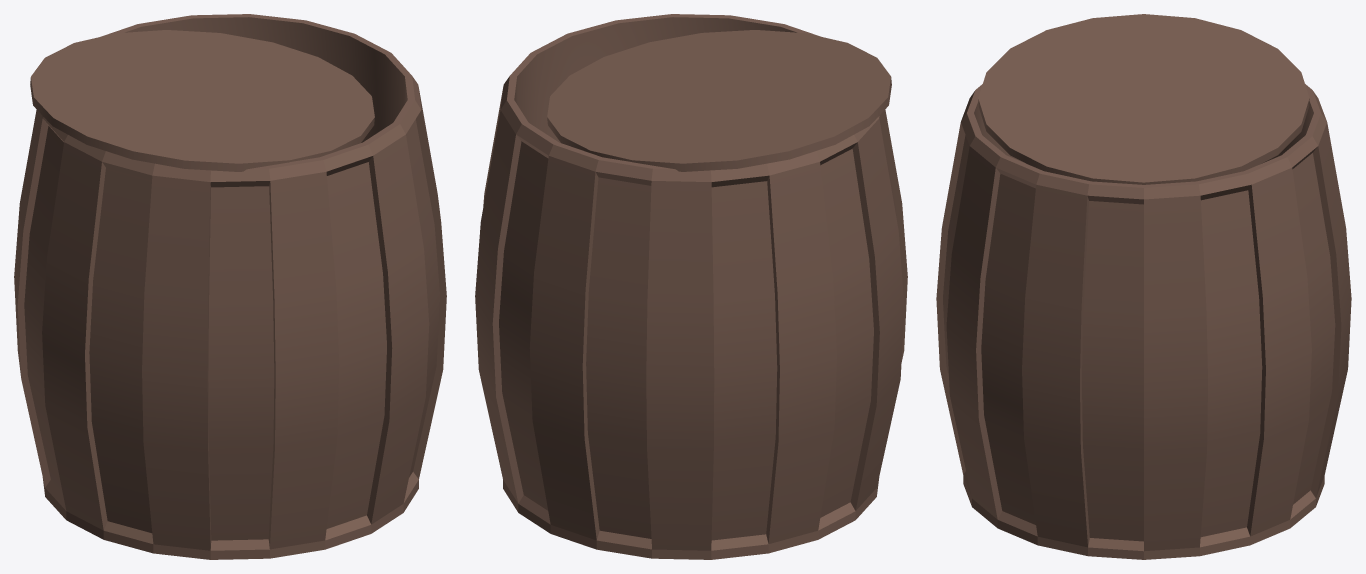
The model's file is Cratesoft_Model.fbx.
3 views of the same model, side by side, from view 1: azimuth 30°, elevation 25°; view 2: azimuth 150°, elevation 25°; view 3: azimuth 270°, elevation 25° (orthographic). The views are drawn at different scales.
Parts seen in each view (by area): view 1: softbarrel; view 2: softbarrel; view 3: softbarrel.
Part boxes in pixels (<box>): softbarrel: <box>14,14,446,559</box>; softbarrel: <box>475,14,907,559</box>; softbarrel: <box>936,14,1351,559</box>.
Bounding box in the file's own units: 96.79 × 99.55 × 96.79.
1 material, 1 textured.
